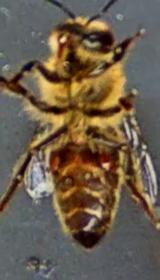varroa_mite: (38, 142, 72, 176), (88, 139, 122, 171)
